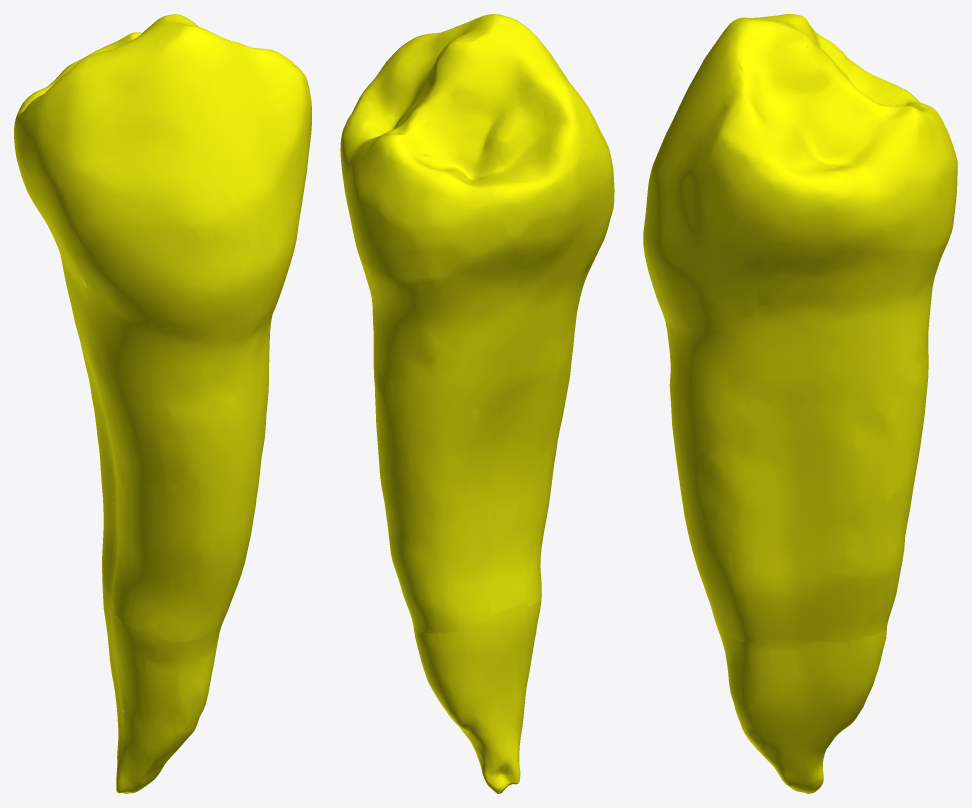
The model's file is pieza_c.glb.
The picture shows the model from 3 angles, left to right: view 1: azimuth 30°, elevation 25°; view 2: azimuth 150°, elevation 25°; view 3: azimuth 270°, elevation 25°; orthographic projection. The views are drawn at different scales.
Visible parts, largest first — view 1: 44__0; view 2: 44__0; view 3: 44__0.
Part boxes in pixels (x1,y1,x2,y2): 44__0: (14,14,311,793); 44__0: (340,14,614,793); 44__0: (643,14,957,793).
Size of the model in its own units: 0.0646 by 0.19 by 0.0687.
